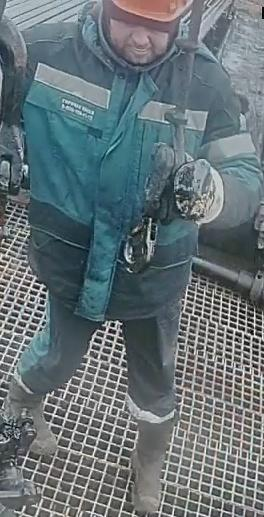helmet: (107, 0, 189, 32)
vest: (14, 19, 225, 321)
